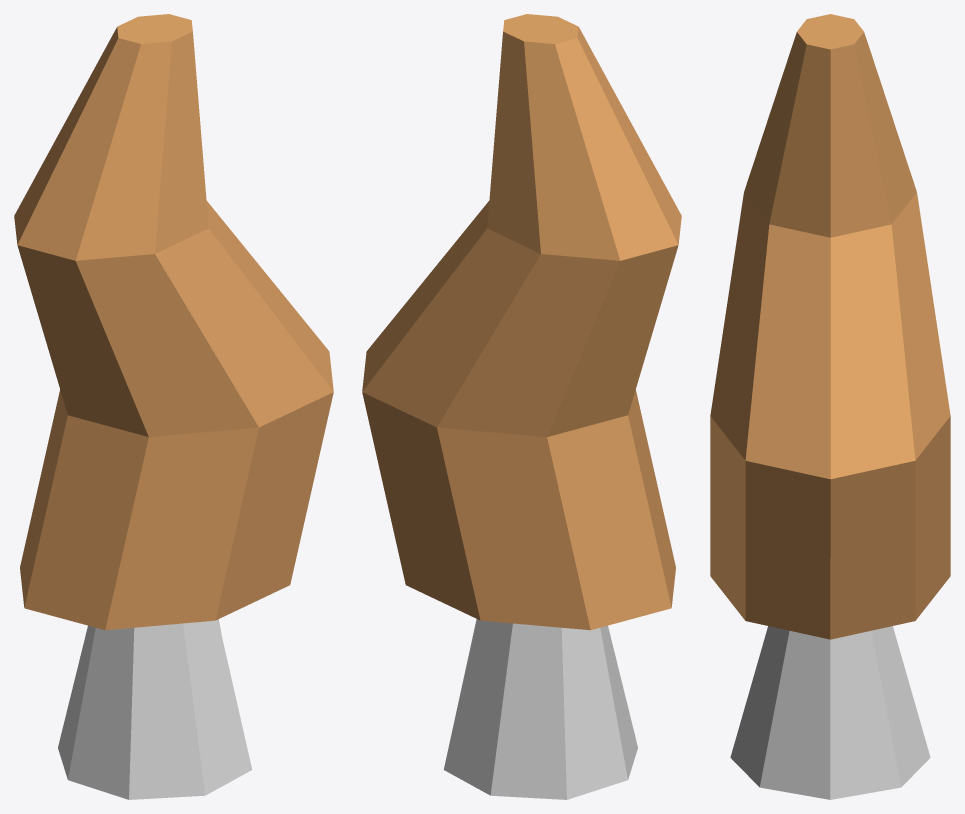
Rendered from Mushroom1b.fbx.
3 views of the same model, side by side, from view 1: azimuth 30°, elevation 25°; view 2: azimuth 150°, elevation 25°; view 3: azimuth 270°, elevation 25° (orthographic).
Visible parts, largest first — view 1: Circle; view 2: Circle; view 3: Circle.
Boxes of the visible parts, box(x1,y1,x2,y2) form: Circle: box(14, 14, 333, 799); Circle: box(362, 14, 681, 799); Circle: box(710, 14, 950, 799).
Bounding box in the file's own units: 35.8 × 80 × 24.
